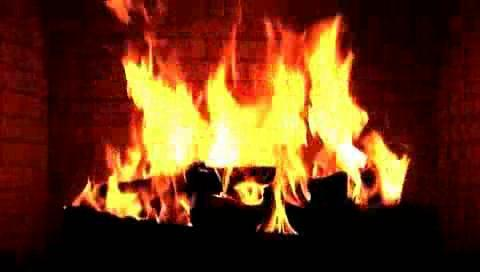fire: (86, 0, 453, 232)
